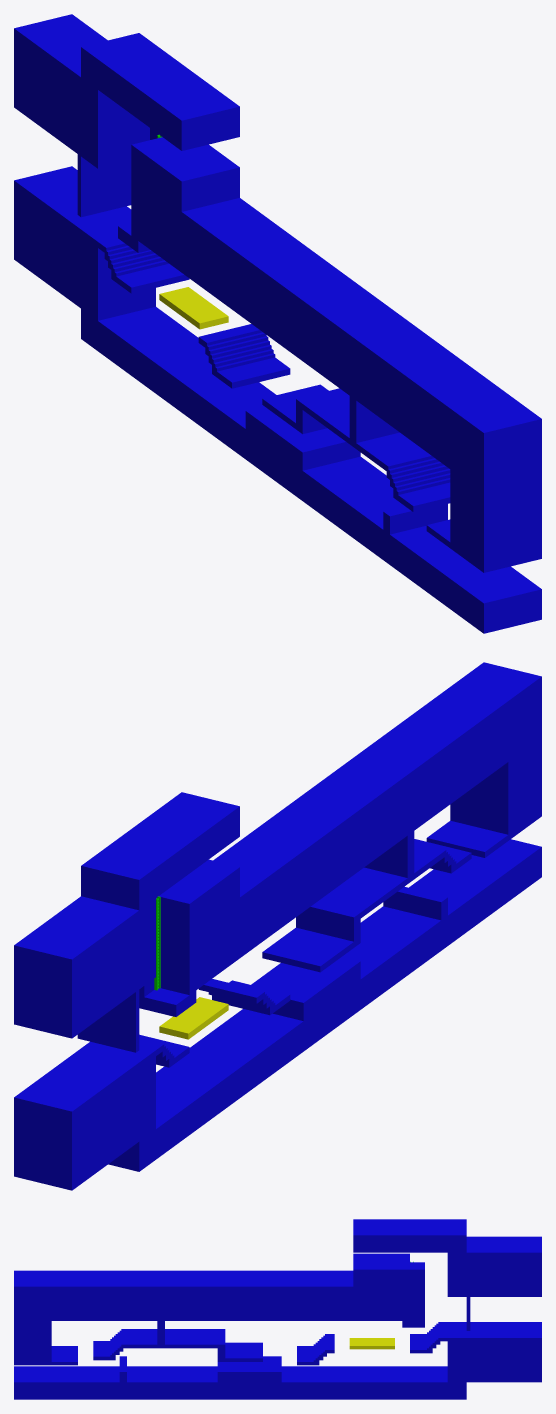
Rendered from Level_3_scene17_colored.fbx.
The picture shows the model from 3 angles, top to bottom: view 1: azimuth 30°, elevation 25°; view 2: azimuth 150°, elevation 25°; view 3: azimuth 270°, elevation 25°; orthographic projection. The views are drawn at different scales.
Parts seen in each view (by area): view 1: Cube.052, Cube.059, Cube.061, Cube.058, Cube.057, Cube.054, Cube.013, Cube.056; view 2: Cube.052, Cube.059, Cube.057, Cube.058, Cube.060, Cube.013, Cube.061, Cube.056, Cube.054; view 3: Cube.052, Cube.059, Cube.057, Cube.061, Cube.005, Cube.054, Cube.058, Cube.013, Cube.060.
Part boxes in pixels (x1,y1,x2,y2): Cube.052: (14,14,541,633); Cube.059: (262,384,399,448); Cube.061: (356,432,450,512); Cube.058: (198,324,290,388); Cube.057: (245,406,360,470); Cube.054: (98,237,189,293); Cube.013: (159,287,228,329); Cube.056: (383,504,447,534); Cube.052: (14,662,541,1190); Cube.059: (262,831,414,972); Cube.057: (251,956,360,1020); Cube.058: (198,979,290,1015); Cube.060: (426,820,508,857); Cube.013: (159,997,228,1039); Cube.061: (414,839,471,878); Cube.056: (383,886,447,920); Cube.054: (139,1034,189,1067); Cube.052: (14,1219,541,1399); Cube.059: (157,1321,262,1361); Cube.057: (217,1356,281,1382); Cube.061: (93,1329,157,1360); Cube.005: (410,1262,424,1320); Cube.054: (410,1322,447,1353); Cube.058: (297,1334,334,1365); Cube.013: (349,1338,394,1349); Cube.060: (51,1346,77,1365).
Size of the model in its own units: 1000 by 4800 by 14000.
